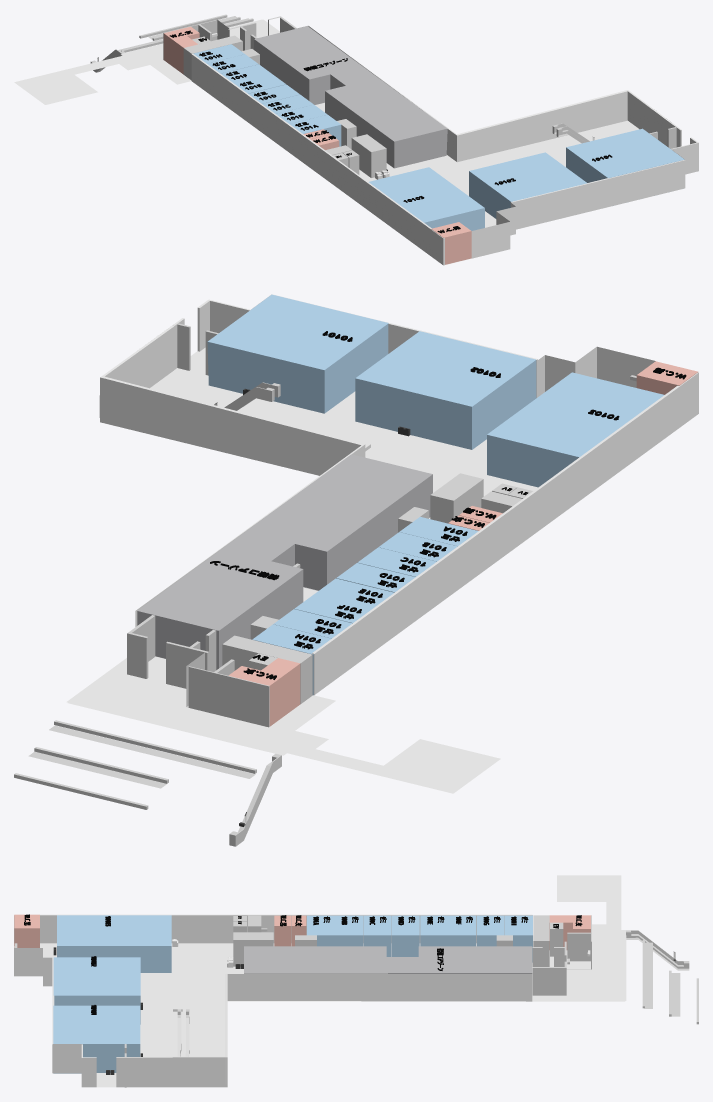
Rendered from Sample2.glb.
The picture shows the model from 3 angles, top to bottom: view 1: azimuth 30°, elevation 25°; view 2: azimuth 150°, elevation 25°; view 3: azimuth 270°, elevation 25°; orthographic projection. The views are drawn at different scales.
Visible parts, largest first — view 1: 平面.021, 情報コアゾーン, 10102.001, 10103.001, 10101.001, EV.006, W.C.男, W.C.女, 壁.003, 壁.001, ゼミ101A.001, ゼミ101E (+6 smaller); view 2: 平面.021, 情報コアゾーン, 10102.001, 10101.001, 10103.001, 壁.003, W.C.女, 壁.001, EV.006, 壁.002, 階段の床, ゼミ101H (+12 smaller); view 3: 平面.021, 情報コアゾーン, 10103.001, 10101.001, 10102.001, ゼミ101D, 壁.002, ゼミ101C.001, ゼミ101F, ゼミ101E, ゼミ101B.001, W.C.男 (+13 smaller).
Part boxes in pixels (x1,y1,x2,y2): 平面.021: (14, 19, 698, 265); 情報コアゾーン: (254, 26, 447, 168); 10102.001: (469, 152, 587, 218); 10103.001: (369, 167, 484, 230); 10101.001: (566, 128, 684, 182); EV.006: (351, 134, 386, 177); W.C.男: (431, 222, 471, 264); W.C.女: (163, 26, 199, 74); 壁.003: (163, 19, 257, 59); 壁.001: (183, 35, 242, 80); ゼミ101A.001: (289, 114, 341, 146); ゼミ101E: (234, 74, 285, 93); 平面.021: (66, 294, 698, 793); 情報コアゾーン: (137, 454, 432, 669); 10102.001: (355, 331, 536, 449); 10101.001: (207, 294, 388, 413); 10103.001: (487, 372, 664, 487); 壁.003: (166, 630, 269, 727); W.C.女: (228, 658, 300, 726); 壁.001: (222, 635, 312, 704); EV.006: (430, 473, 483, 523); 壁.002: (127, 615, 155, 678); 階段の床: (49, 725, 255, 778); ゼミ101H: (252, 624, 331, 695); 平面.021: (14, 875, 626, 1087); 情報コアゾーン: (244, 946, 532, 973); 10103.001: (57, 915, 171, 972); 10101.001: (53, 1005, 140, 1073); 10102.001: (53, 957, 140, 1024); ゼミ101D: (391, 915, 419, 956); 壁.002: (532, 961, 566, 995); ゼミ101C.001: (363, 915, 391, 956); ゼミ101F: (448, 915, 476, 946); ゼミ101E: (420, 915, 448, 946); ゼミ101B.001: (335, 915, 362, 946); W.C.男: (14, 914, 39, 947).
Bounding box in the file's own units: 2.75 × 0.427 × 3.75.
